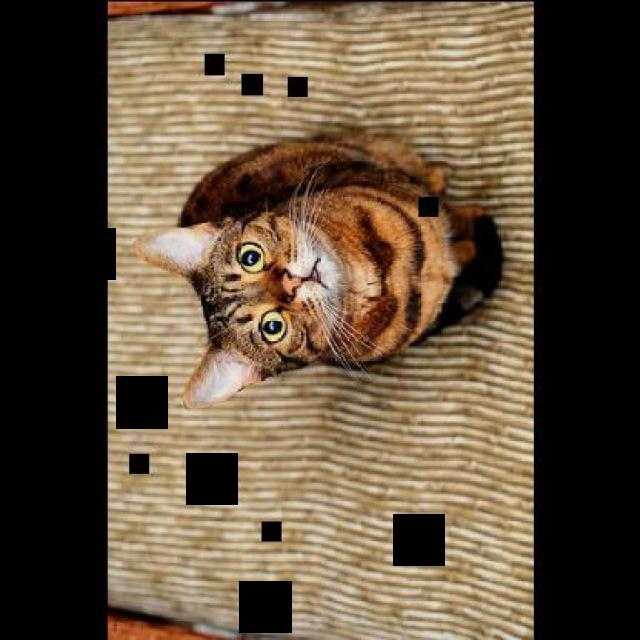unauthorized: (132, 125, 503, 409)
